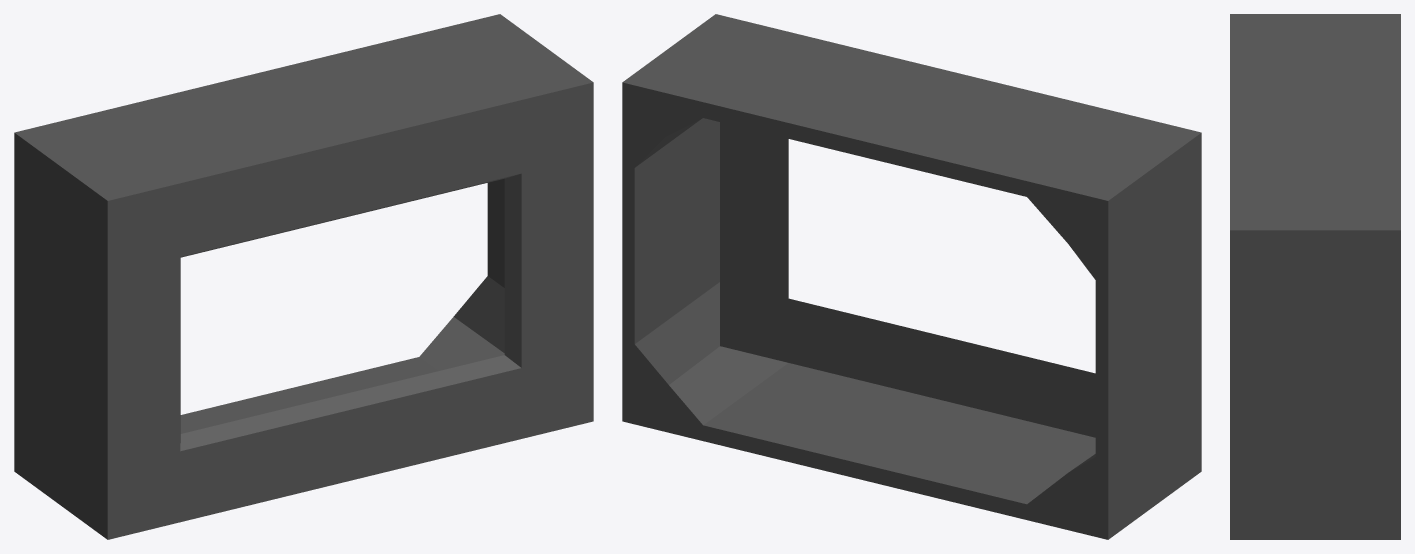
Rendered from Room3.fbx.
3 renders of one model, left to right at view 1: azimuth 30°, elevation 25°; view 2: azimuth 150°, elevation 25°; view 3: azimuth 270°, elevation 25°, orthographic. The views are drawn at different scales.
Parts seen in each view (by area): view 1: Cube.002; view 2: Cube.002; view 3: Cube.002.
Part boxes in pixels (box(x1,y1,x2,y2)): Cube.002: box(14, 14, 593, 539); Cube.002: box(622, 14, 1201, 539); Cube.002: box(1230, 14, 1400, 539).
Bounding box in the file's own units: 6 × 4 × 2.
1 material, 1 textured.
